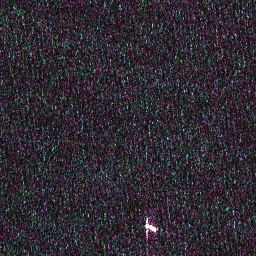ship: (142, 221, 158, 234)
